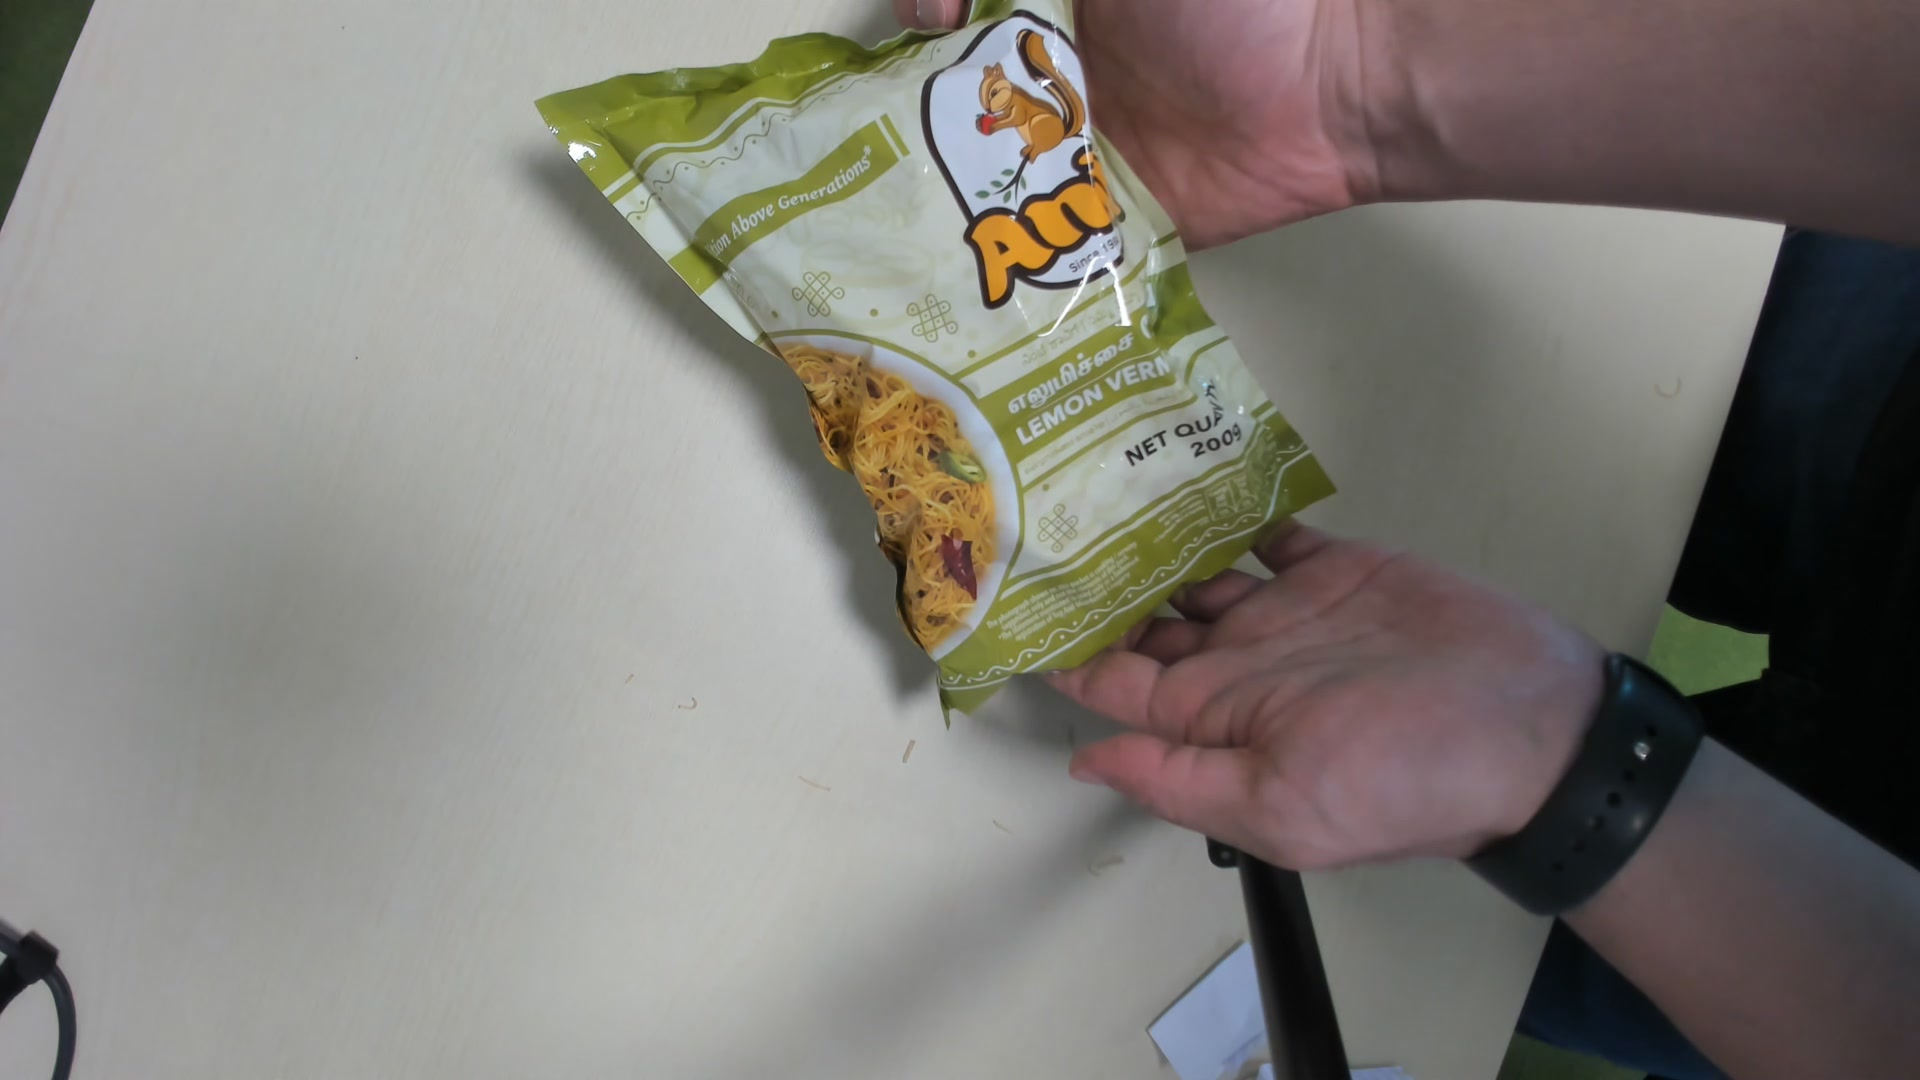BeeHoonVermicelli_200-299g_NonHalal_NonHealthy: (541, 9, 1324, 729)
